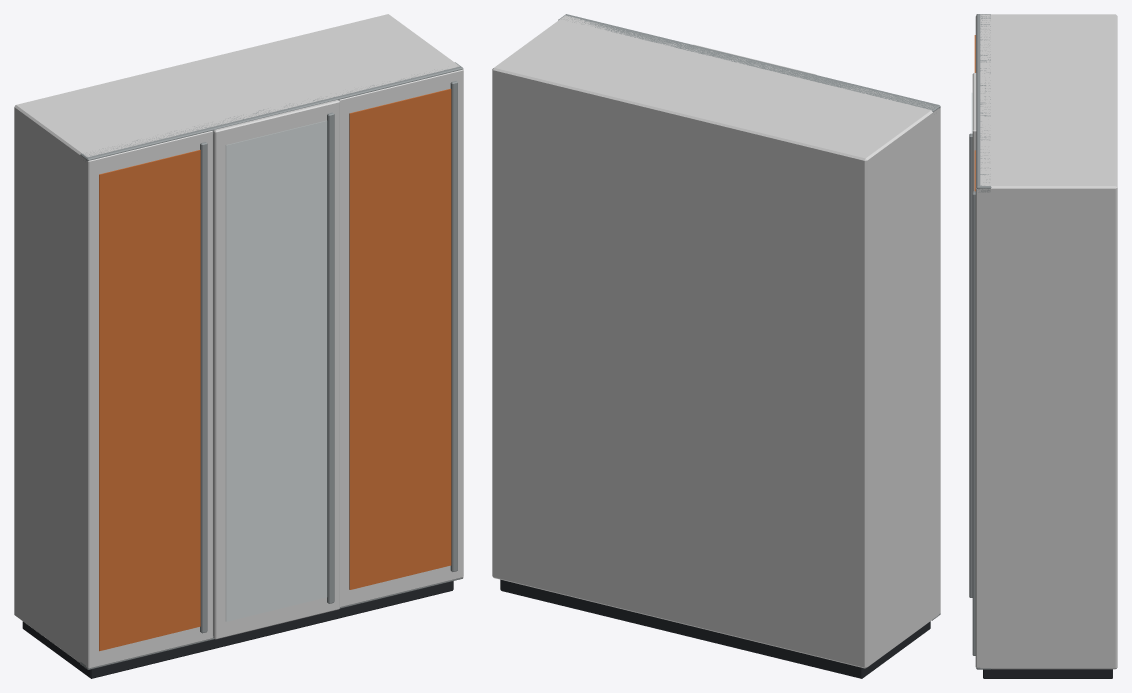
File: wardrobe-sliding-1800.glb
3 views of the same model, side by side, from view 1: azimuth 30°, elevation 25°; view 2: azimuth 150°, elevation 25°; view 3: azimuth 270°, elevation 25° (orthographic). The views are drawn at different scales.
Parts seen in each view (by area): view 1: wardrobe-sliding-1800.tint, wardrobe-sliding-1800.accent, wardrobe-sliding-1800.glass, wardrobe-sliding-1800.metal, wardrobe-sliding-1800.graphite; view 2: wardrobe-sliding-1800.tint, wardrobe-sliding-1800.graphite, wardrobe-sliding-1800.metal; view 3: wardrobe-sliding-1800.tint, wardrobe-sliding-1800.metal, wardrobe-sliding-1800.graphite.
Part boxes in pixels (x1=…): wardrobe-sliding-1800.tint: x1=14, y1=14, x2=463, y2=668; wardrobe-sliding-1800.accent: x1=99, y1=88, x2=451, y2=651; wardrobe-sliding-1800.glass: x1=226, y1=120, x2=327, y2=621; wardrobe-sliding-1800.metal: x1=80, y1=62, x2=463, y2=669; wardrobe-sliding-1800.graphite: x1=22, y1=581, x2=453, y2=678; wardrobe-sliding-1800.tint: x1=492, y1=15, x2=940, y2=668; wardrobe-sliding-1800.graphite: x1=500, y1=579, x2=930, y2=678; wardrobe-sliding-1800.metal: x1=558, y1=14, x2=940, y2=620; wardrobe-sliding-1800.tint: x1=972, y1=14, x2=1117, y2=669; wardrobe-sliding-1800.metal: x1=969, y1=14, x2=991, y2=669; wardrobe-sliding-1800.graphite: x1=983, y1=669, x2=1112, y2=678.
Size of the model in its own units: 1.8 by 2.4 by 0.65.
